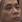without_mask: (1, 2, 22, 22)
